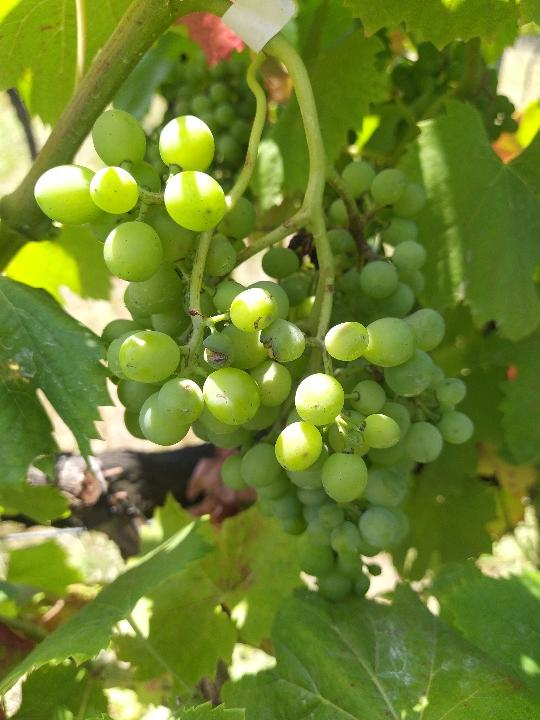grape: (31, 108, 477, 603)
